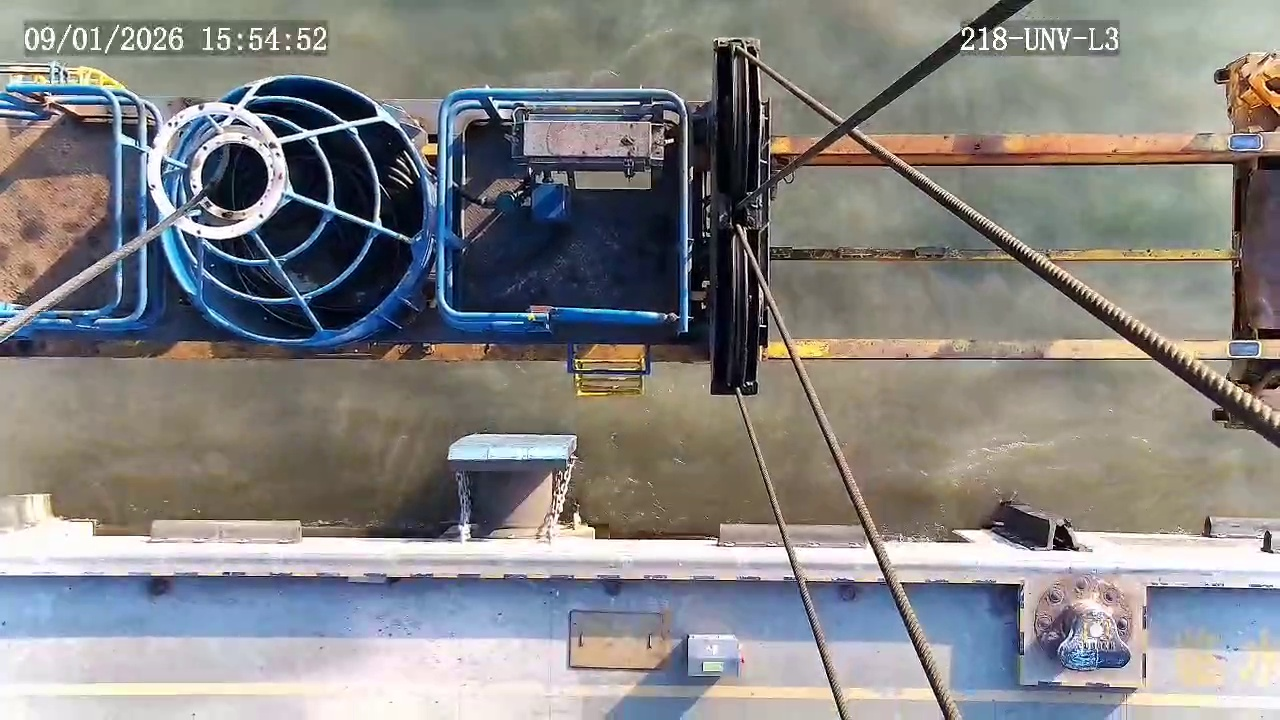right: (147, 103, 284, 241)
